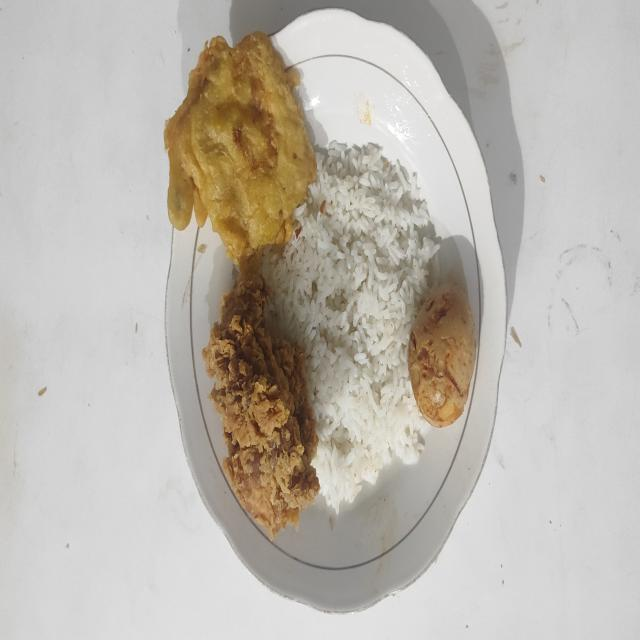nasi_putih: (262, 141, 440, 511)
